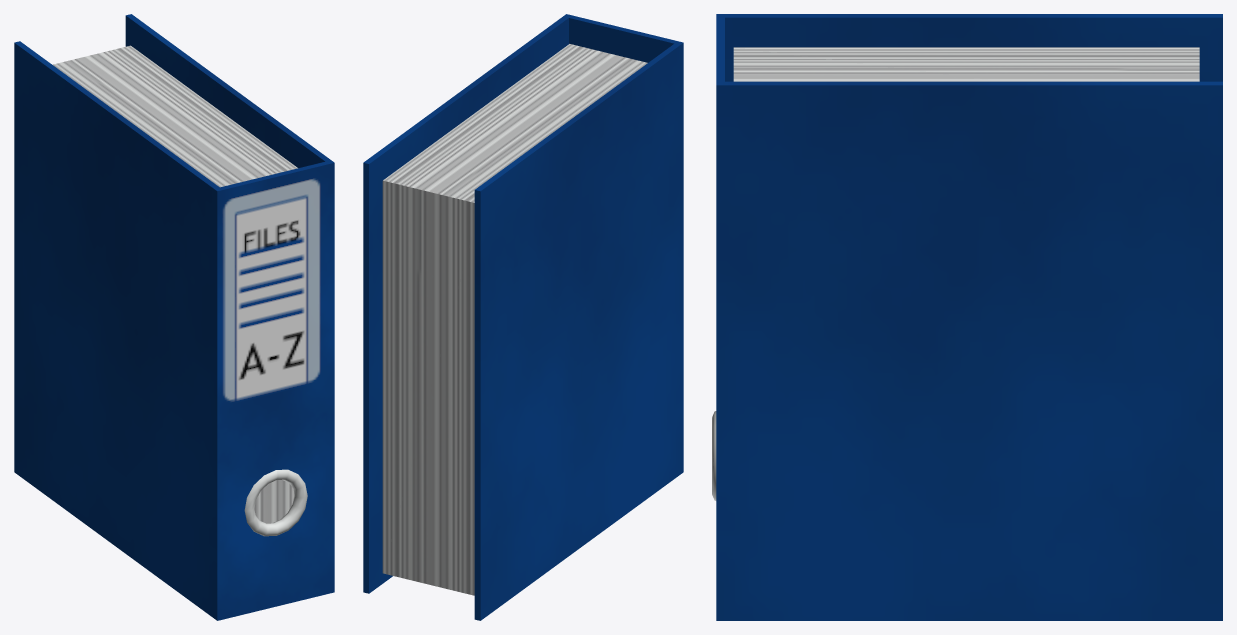
Rendered from 3D004_Office_BookBlue.FBX.
The picture shows the model from 3 angles, left to right: view 1: azimuth 30°, elevation 25°; view 2: azimuth 150°, elevation 25°; view 3: azimuth 270°, elevation 25°; orthographic projection. The views are drawn at different scales.
Visible parts, largest first — view 1: 3D004_Office_BookBlue; view 2: 3D004_Office_BookBlue; view 3: 3D004_Office_BookBlue.
Boxes of the visible parts, x1=… form: 3D004_Office_BookBlue: x1=14, y1=14, x2=334, y2=620; 3D004_Office_BookBlue: x1=363, y1=14, x2=683, y2=620; 3D004_Office_BookBlue: x1=712, y1=14, x2=1222, y2=620.
Size of the model in its own units: 10 by 35 by 30.26.
